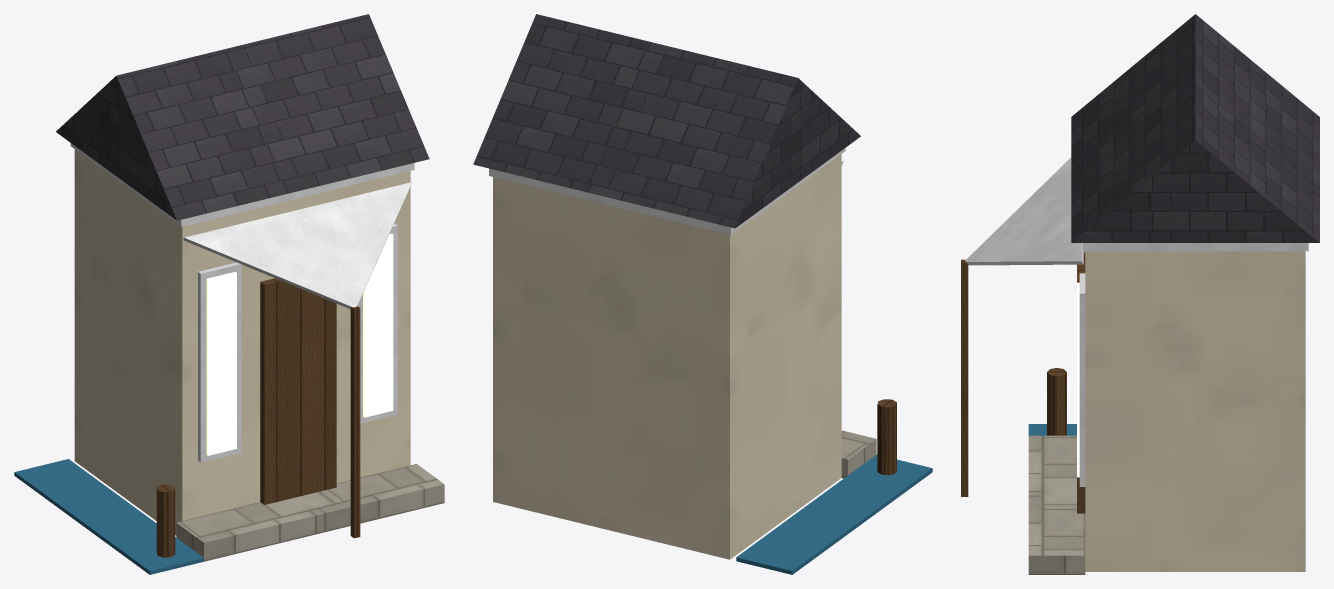
The model's file is protocol.opensea.glb.
3 renders of one model, left to right at view 1: azimuth 30°, elevation 25°; view 2: azimuth 150°, elevation 25°; view 3: azimuth 270°, elevation 25°, orthographic. The views are drawn at different scales.
Parts seen in each view (by area): view 1: building.protocol.opensea; view 2: building.protocol.opensea; view 3: building.protocol.opensea.
Boxes of the visible parts, box(x1,y1,x2,y2) form: building.protocol.opensea: box(14, 14, 444, 574); building.protocol.opensea: box(473, 14, 932, 574); building.protocol.opensea: box(961, 14, 1319, 574).
Size of the model in its own units: 2.5 by 3.45 by 2.52.
8 materials, 6 textured.
